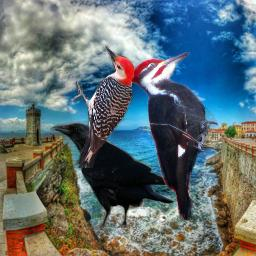Crow: (50, 121, 177, 236)
Woodpecker: (124, 52, 218, 221), (68, 44, 134, 168)
